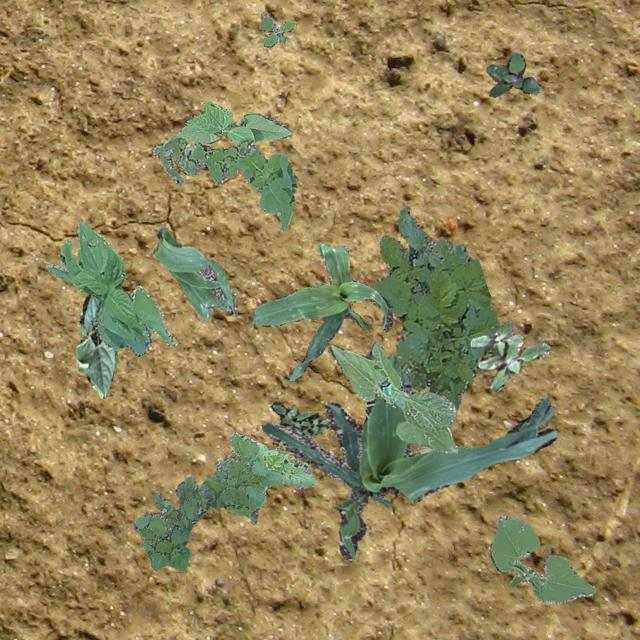crop: (261, 353, 555, 560), (250, 242, 392, 381), (44, 220, 176, 354), (326, 341, 456, 452), (490, 514, 594, 602), (152, 226, 236, 320), (174, 100, 292, 142), (76, 292, 116, 398)
weed: (368, 206, 498, 408), (132, 430, 314, 570), (150, 136, 296, 230), (469, 320, 548, 390), (486, 52, 540, 96), (270, 400, 330, 438), (258, 12, 296, 46)
